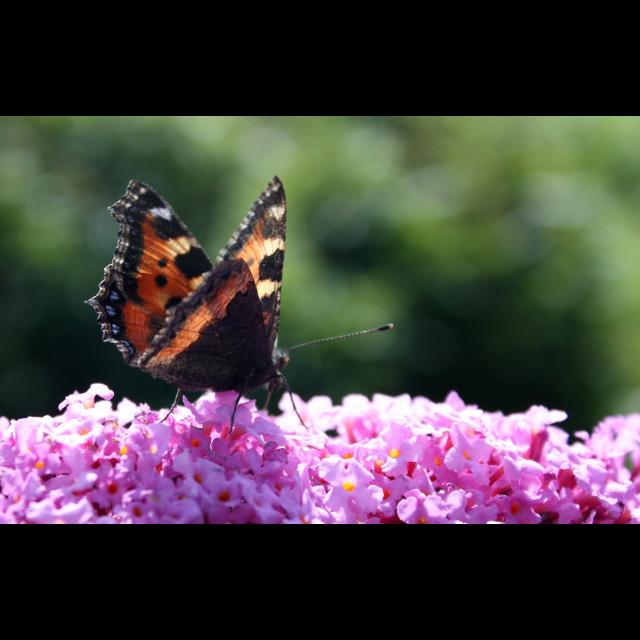Flower: (1, 382, 640, 524)
